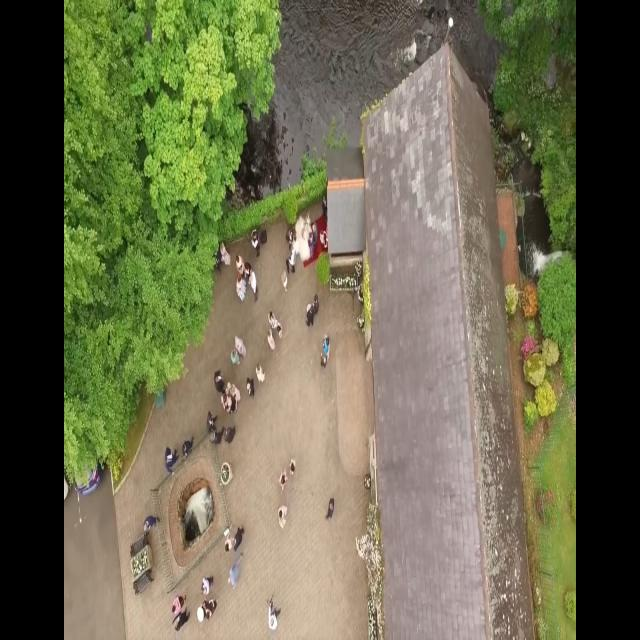humans: (225, 560, 248, 600), (265, 591, 283, 640), (140, 510, 164, 541), (162, 439, 180, 480), (319, 335, 334, 378), (234, 268, 248, 310), (247, 262, 260, 306), (275, 501, 290, 535), (254, 356, 269, 390), (222, 522, 235, 558), (178, 436, 197, 460), (248, 224, 260, 260), (325, 495, 338, 527), (171, 590, 188, 614), (205, 599, 219, 628), (277, 467, 289, 500), (286, 452, 300, 480), (222, 419, 236, 446), (201, 572, 216, 596), (213, 366, 225, 396), (208, 422, 220, 450), (229, 344, 240, 373), (245, 372, 255, 403), (269, 304, 280, 331), (204, 408, 218, 429), (313, 285, 322, 314), (236, 250, 244, 270)
